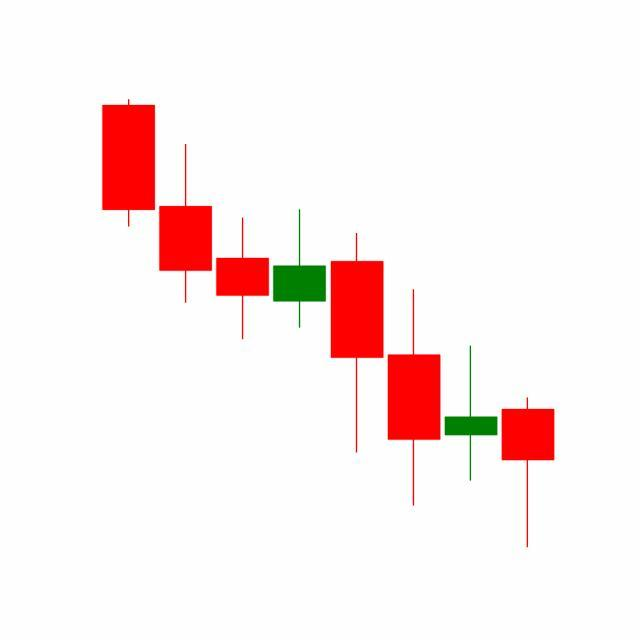Hikkake Pattern: (270, 205, 555, 548)
